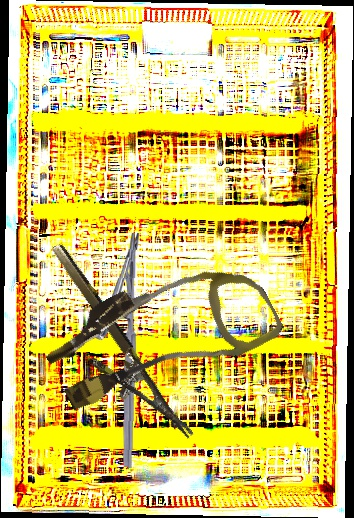Cannula: (35, 232, 287, 437)
Needle Holder: (25, 240, 195, 461), (89, 231, 142, 468)
